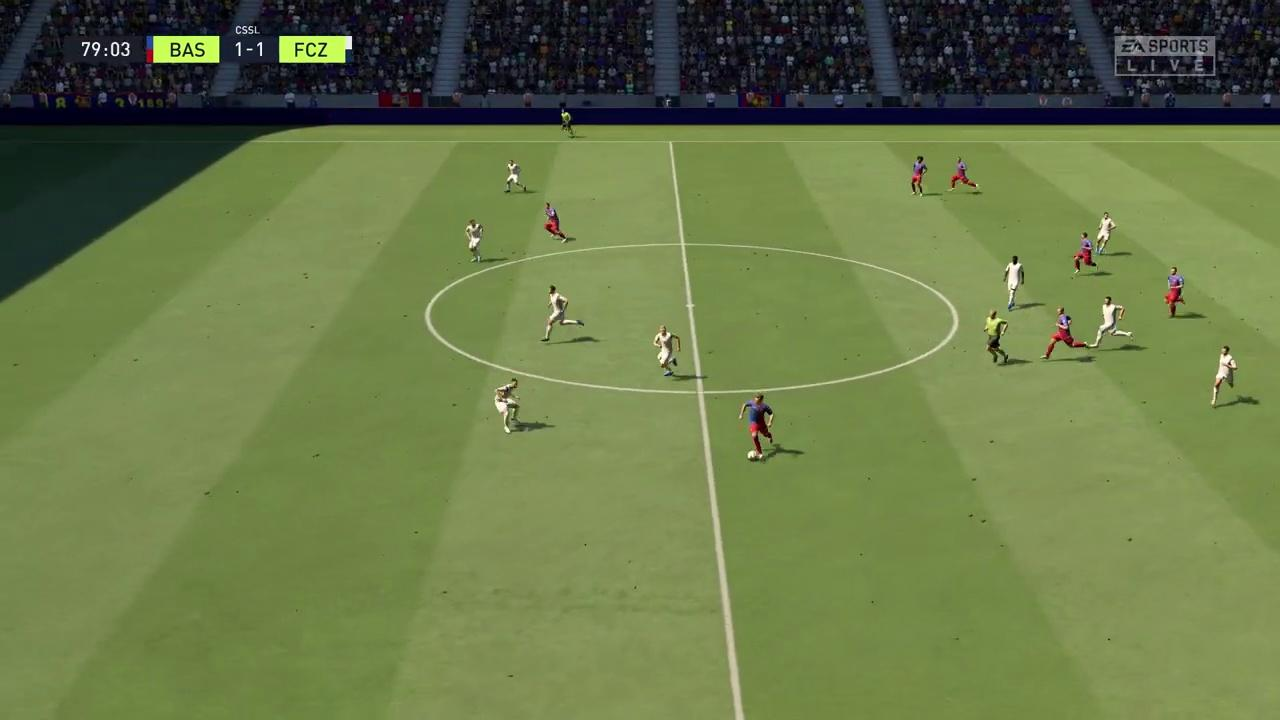scoreboard: (153, 36, 354, 63)
timestamp: (70, 36, 140, 61)
